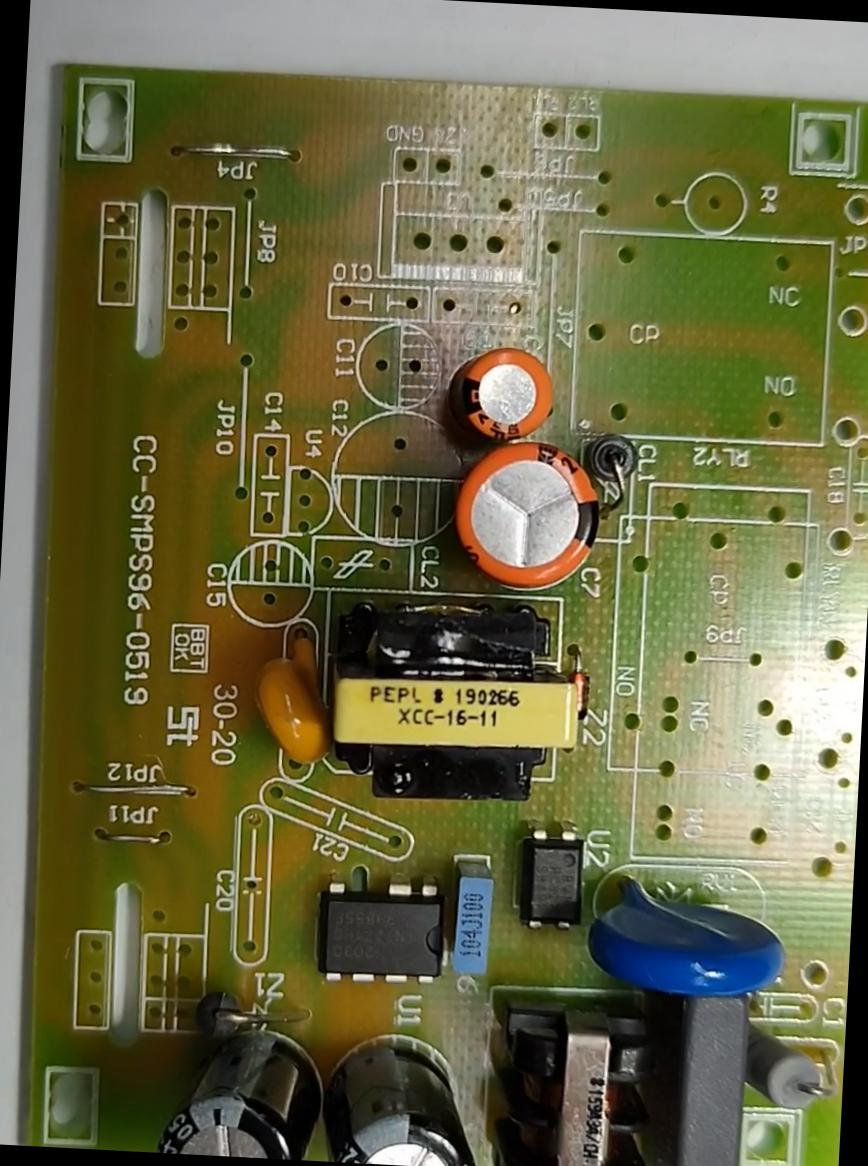Cap1: (448, 433, 606, 598)
Cap2: (446, 340, 560, 456)
Cap3: (316, 1031, 493, 1165)
Cap4: (151, 1012, 331, 1160)
MOSFET: (306, 873, 457, 990)
Mov: (574, 869, 796, 1012)
Resistor: (734, 1026, 829, 1118)
Transformer: (306, 584, 593, 814), (478, 982, 664, 1165)
